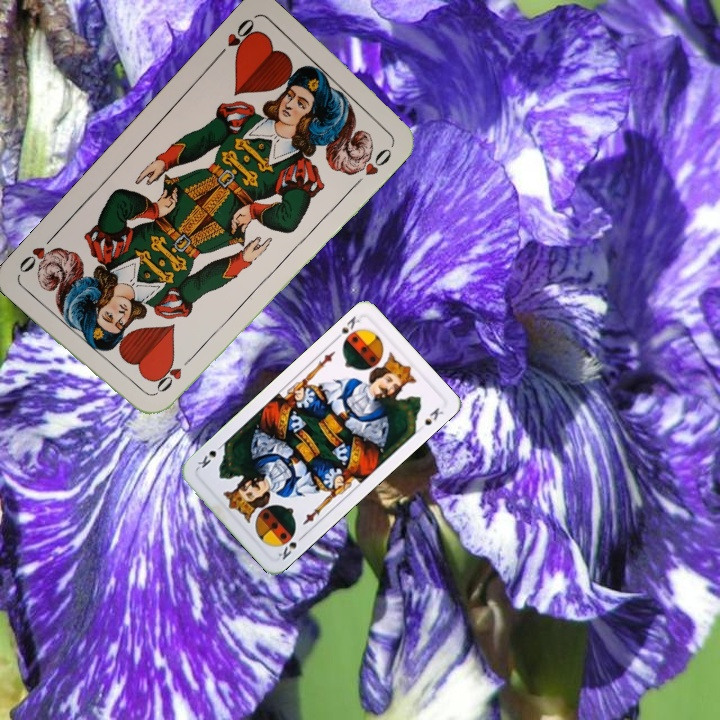HO: (212, 14, 260, 61), (150, 352, 197, 398)
SK: (274, 530, 307, 563), (330, 312, 362, 344)
